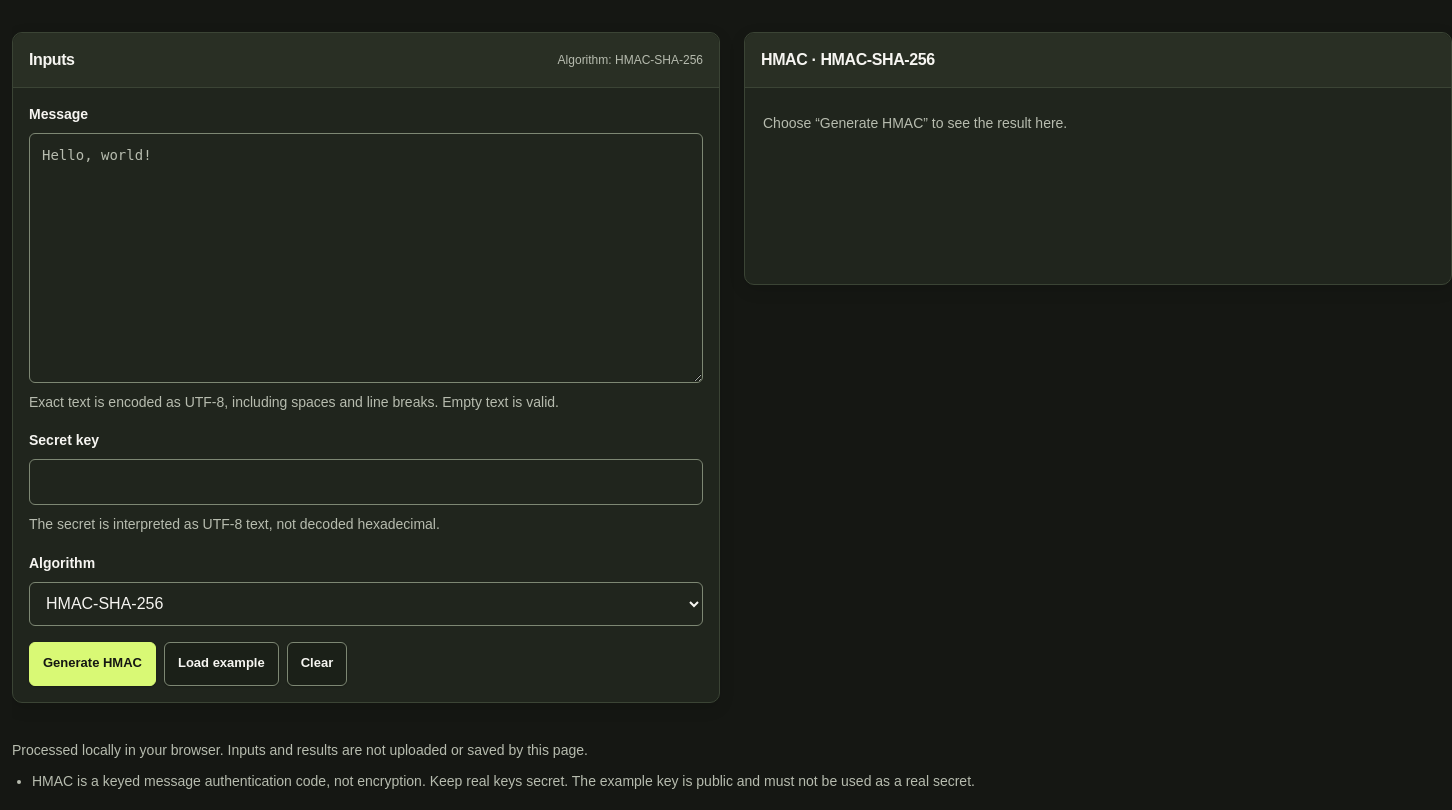
Security dark DOM theme (not visual proof) › hmac-generator has only contracted controls, keyboard actions, exact copies and no transmission
Step 1. Press Tab
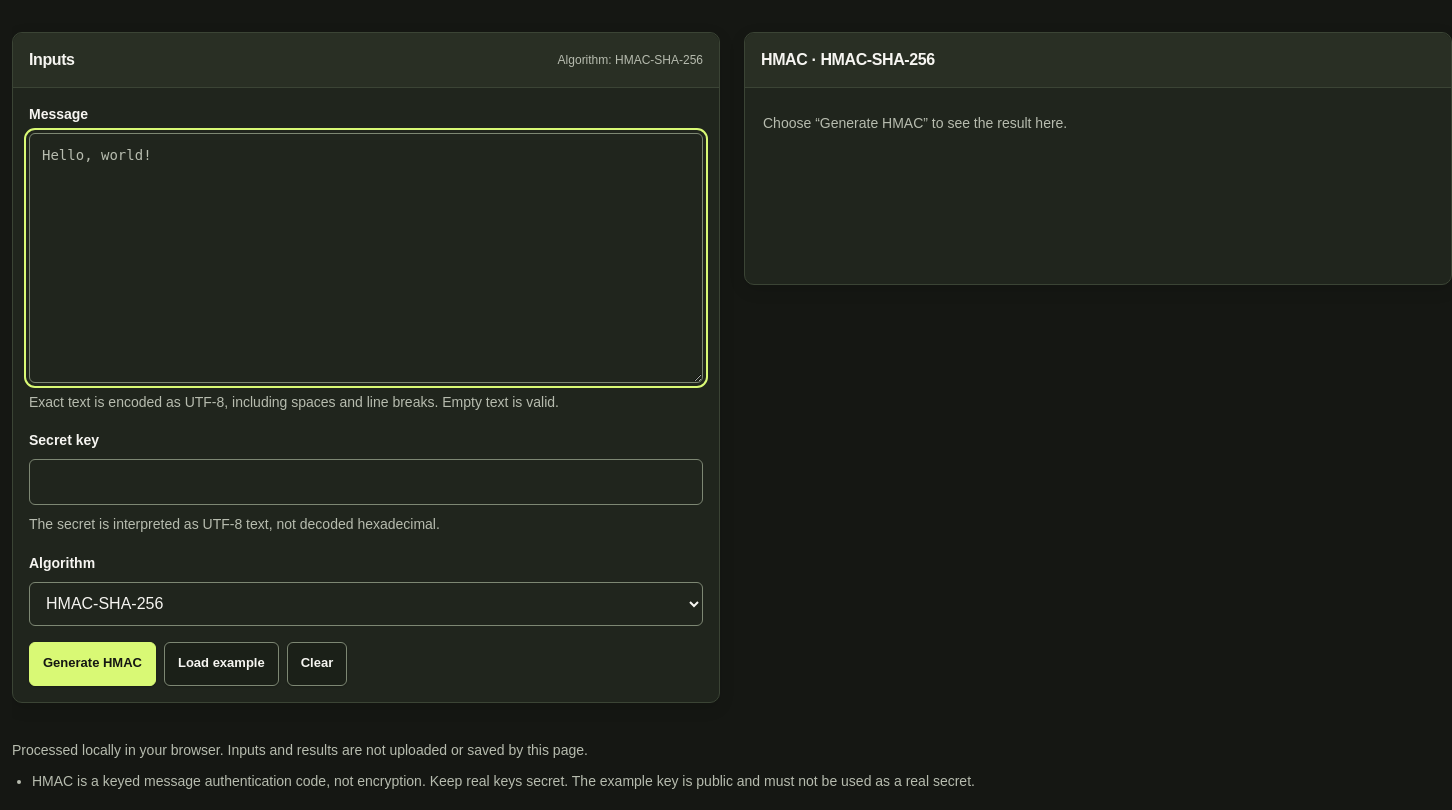
Step 2. Click the button "Load example" → point(221, 664), box [164,642,279,686]
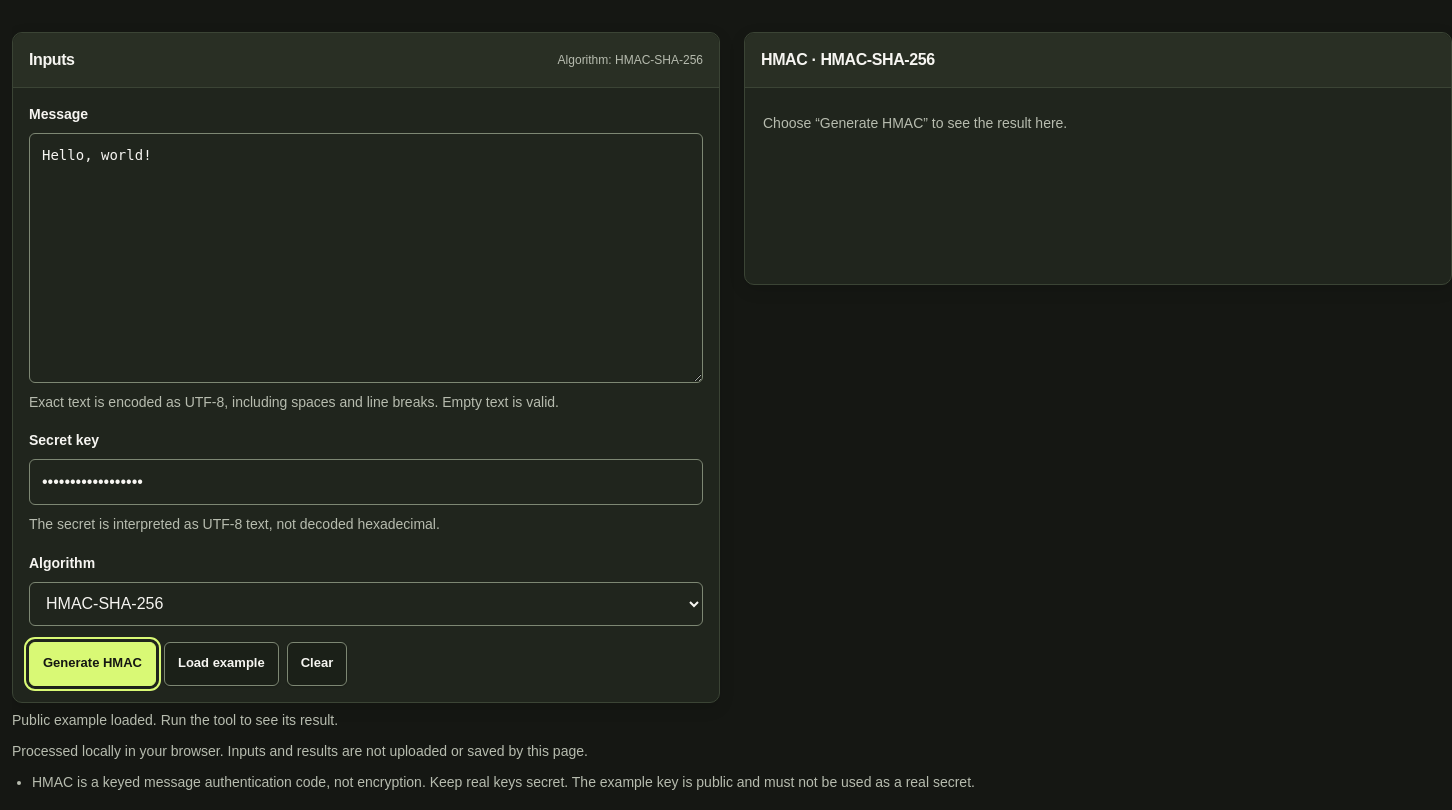
Step 3. Press Enter
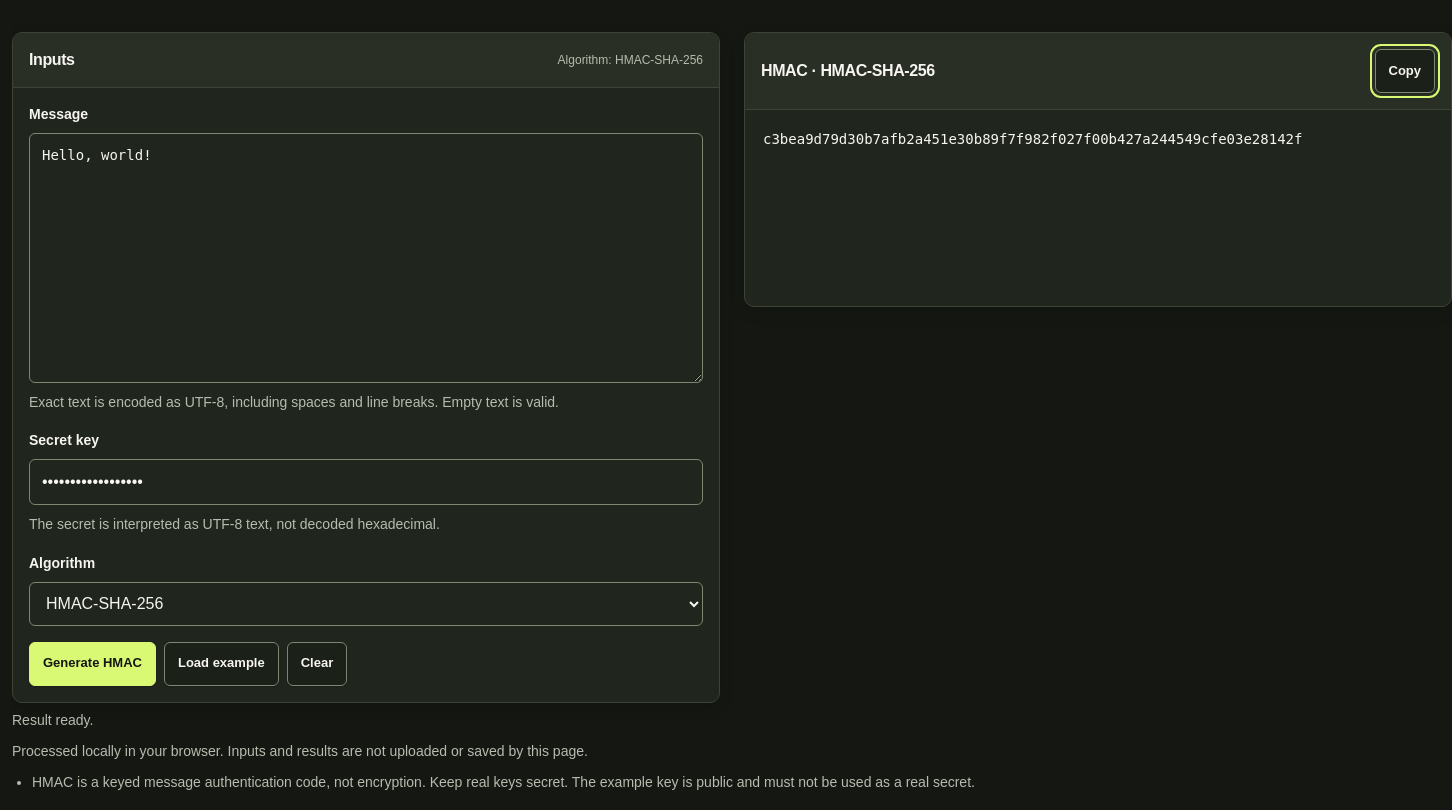
Step 4. Press Enter
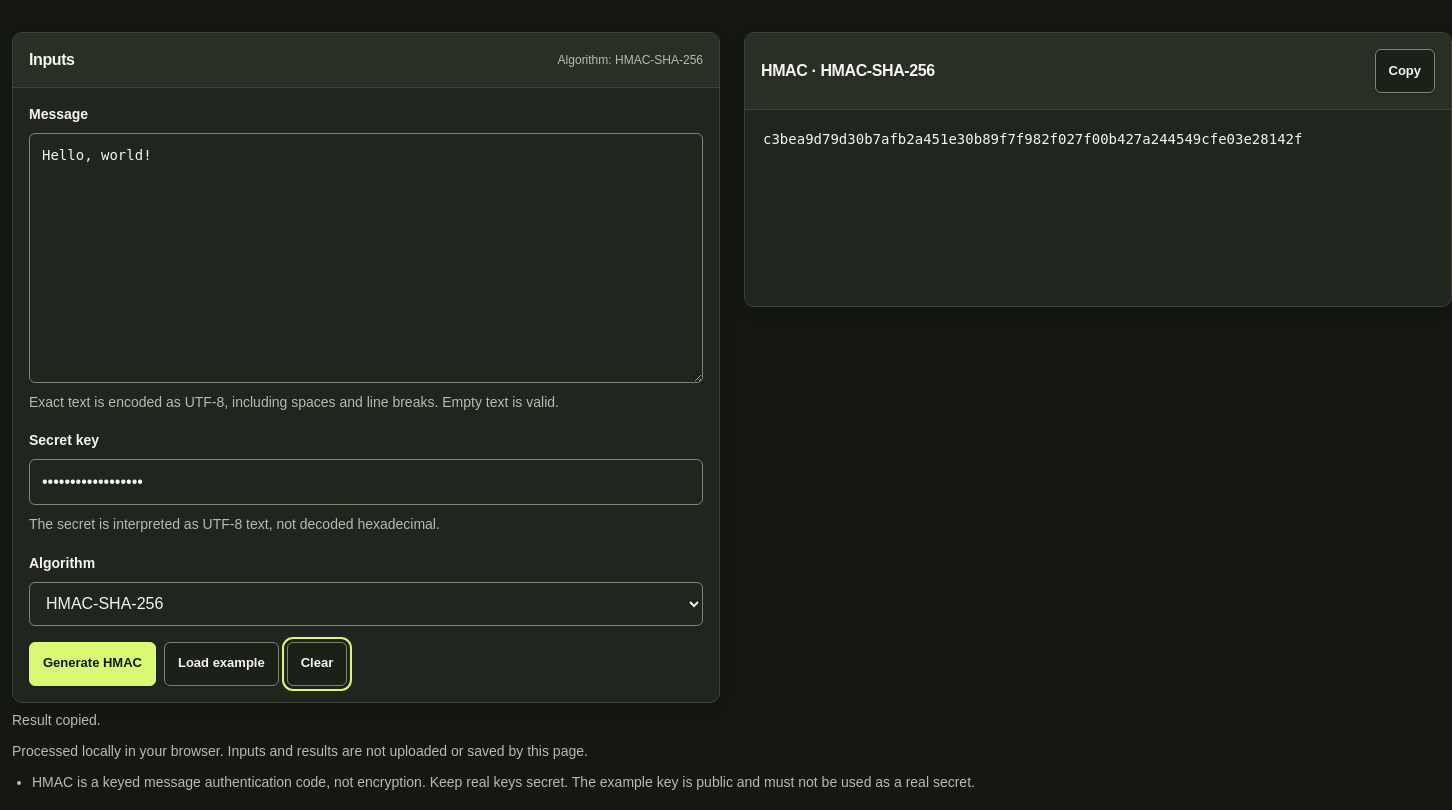
Step 5. Press Enter
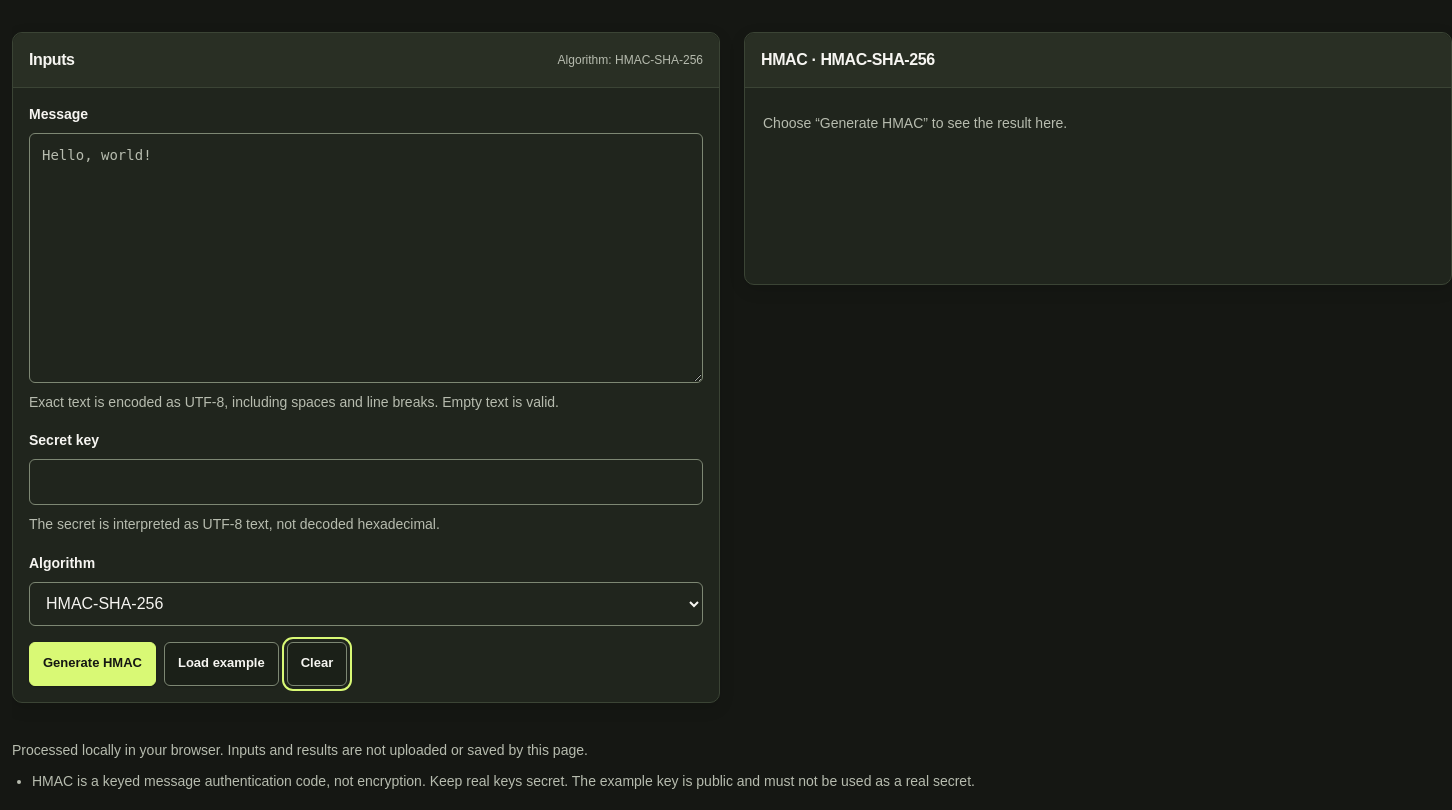
Now the text box labelled "Message" is empty, box [29,133,703,383]
Now the password field labelled "Secret key" is empty, box [29,460,703,506]
Now the button "Copy" is gone
